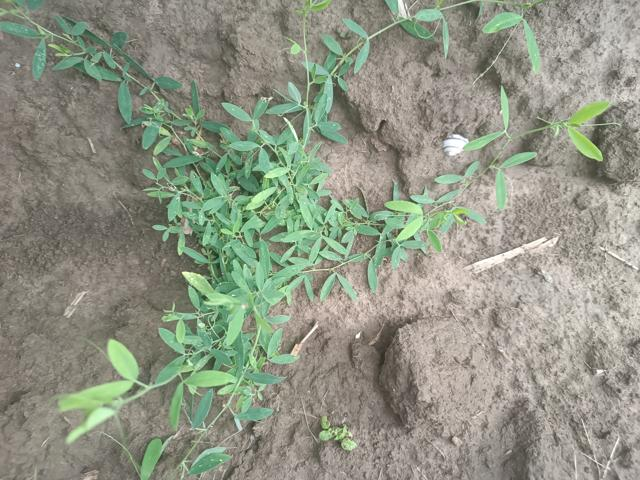bad weed: (62, 50, 617, 442)
